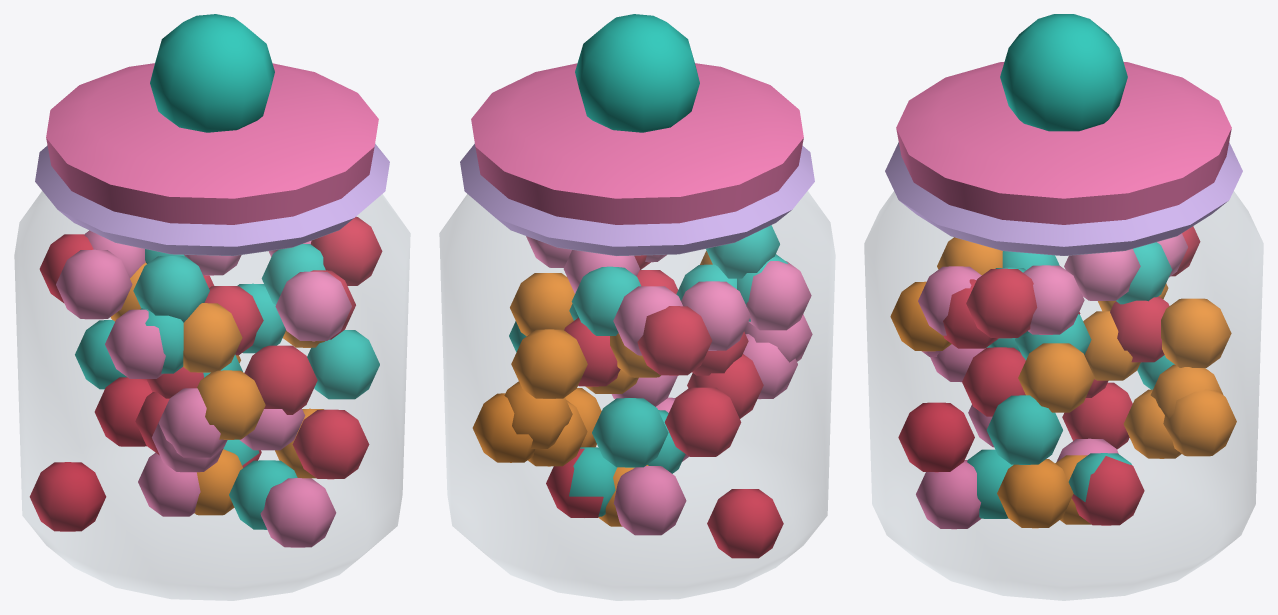
The model's file is Candy_Jar.fbx.
3 views of the same model, side by side, from view 1: azimuth 30°, elevation 25°; view 2: azimuth 150°, elevation 25°; view 3: azimuth 270°, elevation 25° (orthographic).
Visible parts, largest first — view 1: Candy_Jar_Glass, Candy_Jar_Candies, Candy_Jar_Lid; view 2: Candy_Jar_Glass, Candy_Jar_Candies, Candy_Jar_Lid; view 3: Candy_Jar_Glass, Candy_Jar_Candies, Candy_Jar_Lid.
Part boxes in pixels (<box>): Candy_Jar_Glass: <box>14,191,410,600</box>; Candy_Jar_Candies: <box>29,216,382,547</box>; Candy_Jar_Lid: <box>35,14,389,255</box>; Candy_Jar_Glass: <box>439,191,835,600</box>; Candy_Jar_Candies: <box>472,225,812,558</box>; Candy_Jar_Lid: <box>460,14,814,255</box>; Candy_Jar_Glass: <box>864,192,1263,600</box>; Candy_Jar_Candies: <box>890,226,1236,529</box>; Candy_Jar_Lid: <box>885,14,1242,255</box>.
Bounding box in the file's own units: 0.25 × 0.355 × 0.25.
